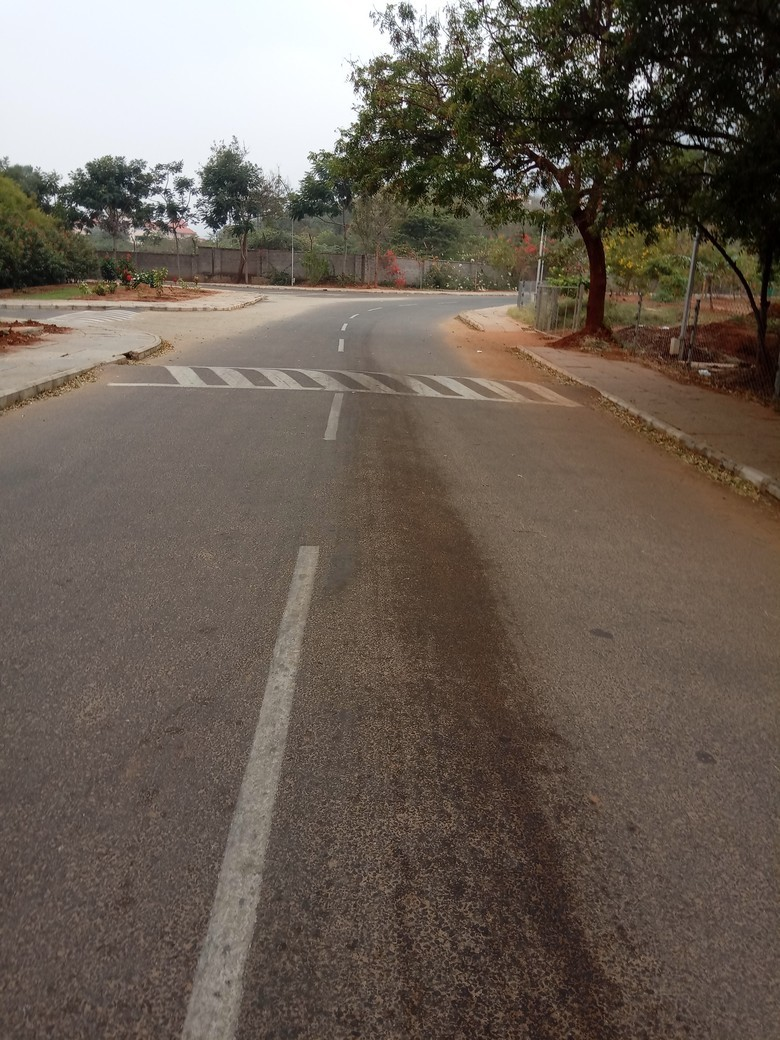bump: (100, 357, 600, 408)
